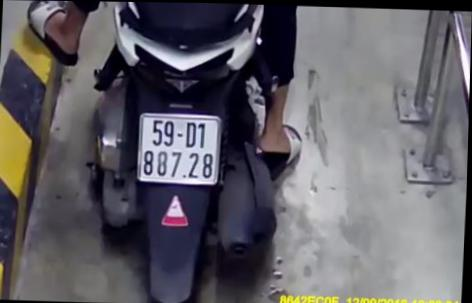LP: (137, 111, 221, 186)
